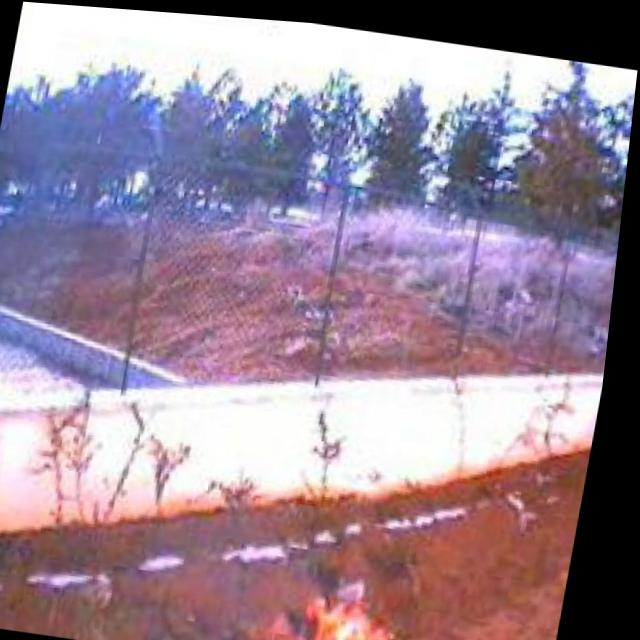Fire: (266, 568, 474, 640)
